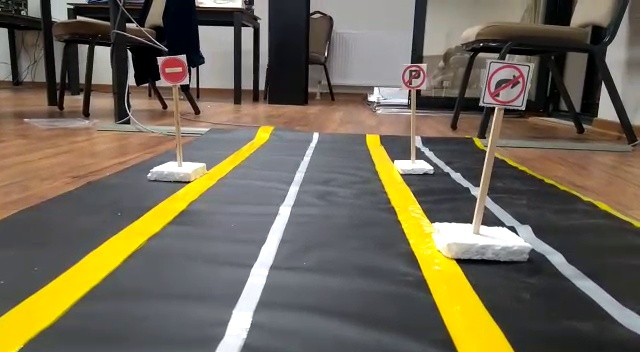girisi_olmayan_yol: (156, 55, 188, 83)
park_yapilmaz: (400, 64, 425, 90)
saga_donulmez: (484, 58, 527, 107)
